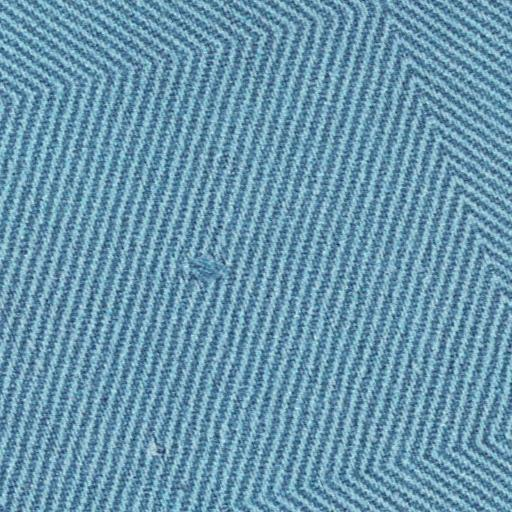knot: (179, 239, 243, 300)
